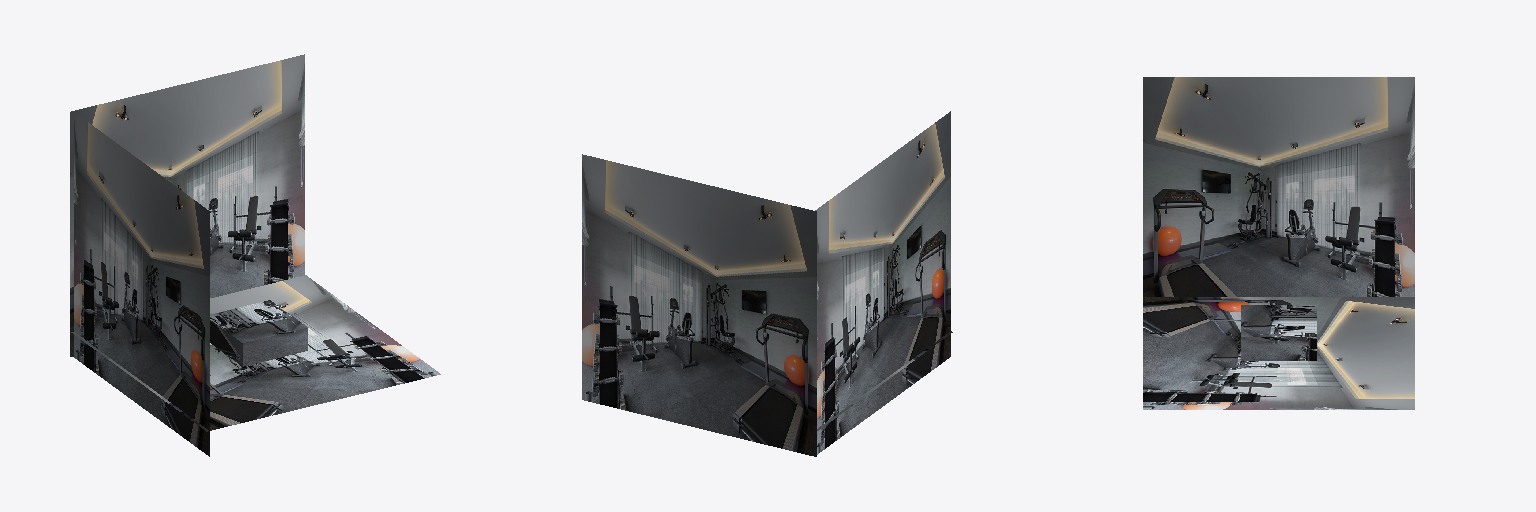
3 views of the same model, side by side, from view 1: azimuth 30°, elevation 25°; view 2: azimuth 150°, elevation 25°; view 3: azimuth 270°, elevation 25° (orthographic).
Size of the model in its own units: 6.3 by 6.31 by 6.34.
1 materials, 1 textured.